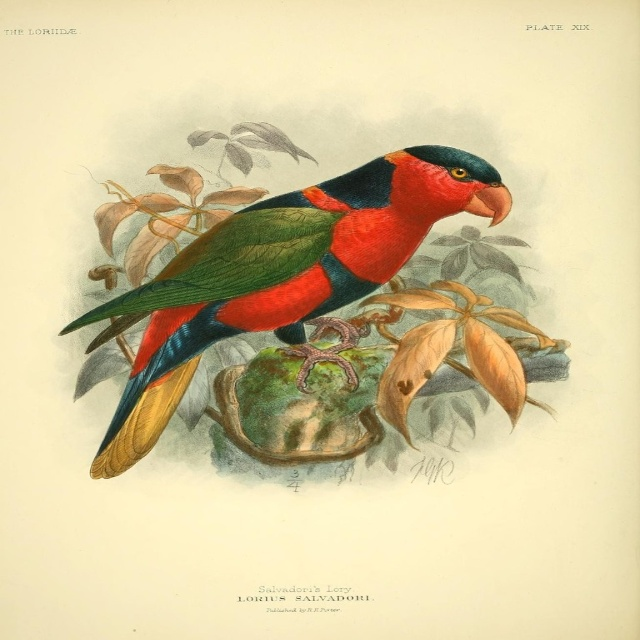Parrot: (54, 134, 516, 482)
